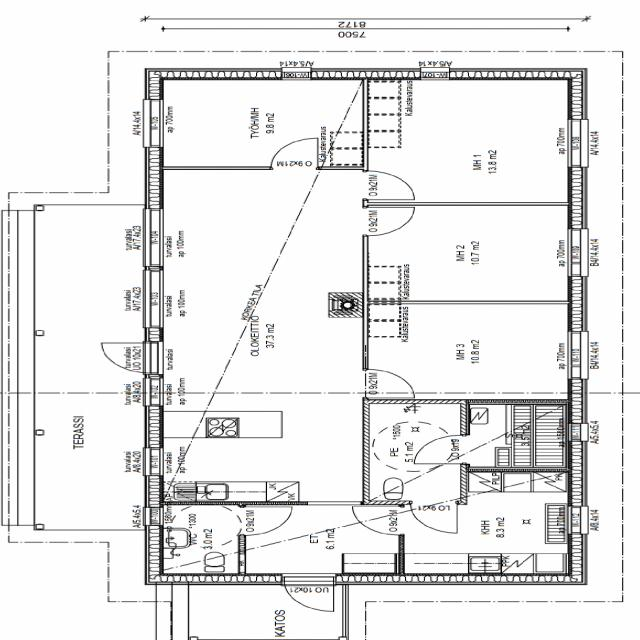door: (89, 341, 162, 375), (280, 574, 334, 617), (364, 369, 417, 399), (269, 137, 316, 170), (410, 502, 458, 534), (364, 207, 416, 236), (364, 171, 416, 200), (417, 435, 468, 463), (239, 507, 290, 535), (355, 507, 406, 534)
